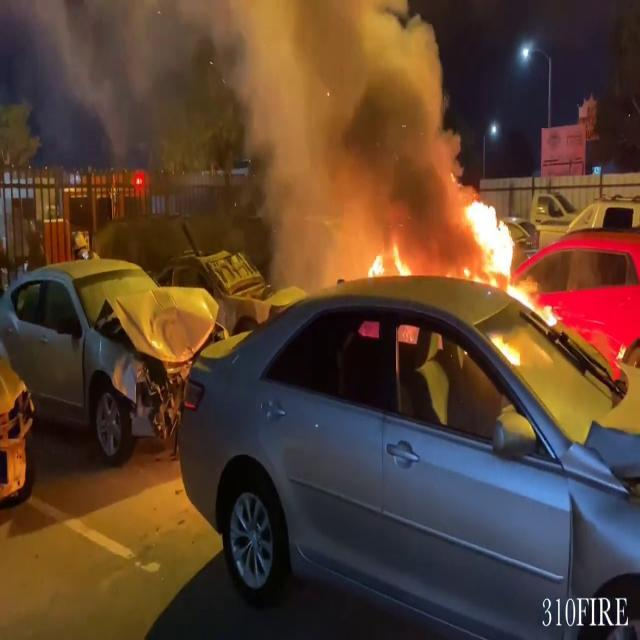Fire: (457, 187, 525, 291), (360, 236, 418, 284)
Smoke: (0, 0, 474, 250), (223, 0, 467, 278)
